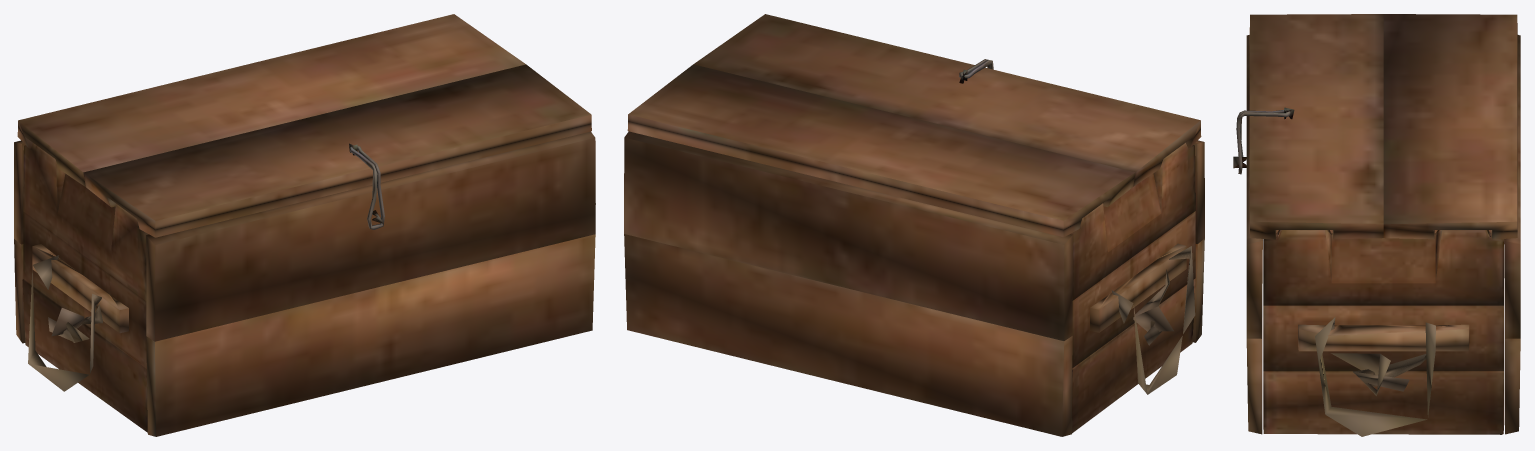
The model's file is wooden_crate_01.glb.
The picture shows the model from 3 angles, left to right: view 1: azimuth 30°, elevation 25°; view 2: azimuth 150°, elevation 25°; view 3: azimuth 270°, elevation 25°; orthographic projection. The views are drawn at different scales.
Parts seen in each view (by area): view 1: wooden_crate_01, wooden_crate_01_lid, wooden_crate_01_latch; view 2: wooden_crate_01, wooden_crate_01_lid; view 3: wooden_crate_01_lid, wooden_crate_01, wooden_crate_01_latch.
Boxes of the visible parts, left/top/right/bottom form: wooden_crate_01: left=14, top=131, right=595, bottom=436; wooden_crate_01_lid: left=17, top=14, right=591, bottom=237; wooden_crate_01_latch: left=350, top=146, right=384, bottom=229; wooden_crate_01: left=624, top=131, right=1204, bottom=436; wooden_crate_01_lid: left=627, top=14, right=1201, bottom=237; wooden_crate_01_lid: left=1249, top=14, right=1517, bottom=239; wooden_crate_01: left=1233, top=35, right=1520, bottom=436; wooden_crate_01_latch: left=1236, top=110, right=1290, bottom=174.
Bounding box in the file's own units: 0.818 × 0.3468 × 0.4043.
Materials: 1 (1 with a texture image).
